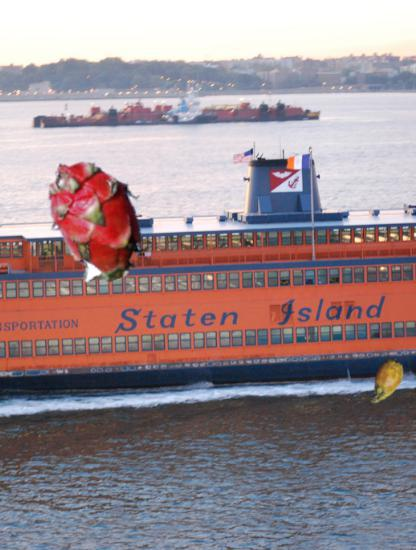Cactus: (360, 357, 412, 409)
Pitahaya: (33, 153, 162, 282)
